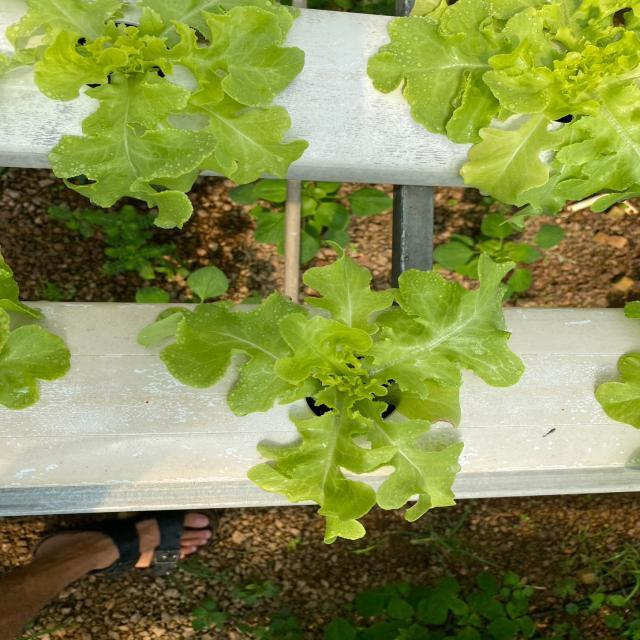Lettuce-Not-Ready-to-Harvest: (153, 266, 526, 537), (0, 0, 306, 234), (363, 0, 640, 213)
